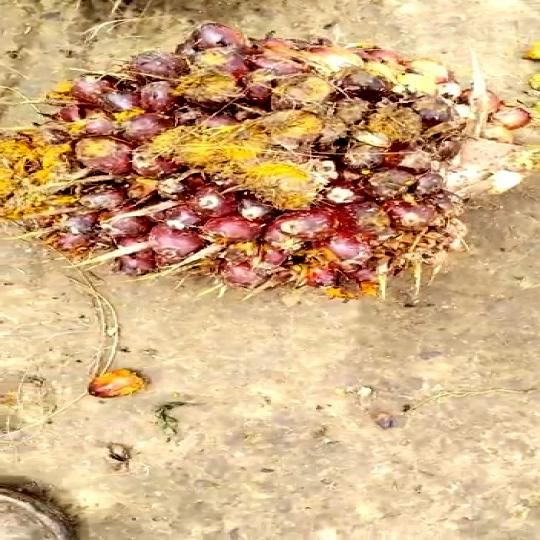masak: (26, 23, 491, 308)
